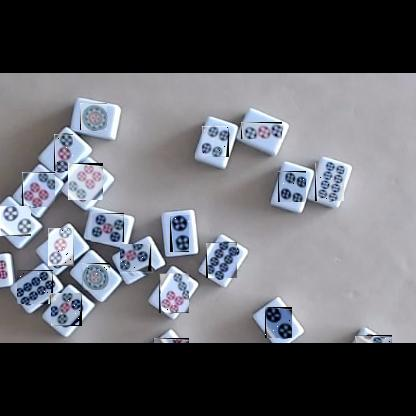1p: (82, 263, 110, 290), (80, 103, 107, 130)
2p: (0, 206, 31, 236), (265, 307, 292, 338), (170, 215, 189, 252)
3p: (48, 228, 74, 266), (54, 134, 73, 171), (241, 122, 282, 139)
4p: (278, 171, 306, 202), (202, 126, 229, 157)
5p: (121, 245, 156, 276), (51, 293, 82, 326), (91, 213, 124, 242)
6p: (68, 163, 103, 200), (22, 172, 55, 207)
7p: (159, 273, 189, 313), (153, 338, 189, 343)
8p: (17, 270, 53, 304), (206, 242, 237, 278), (315, 163, 344, 201)
9p: (355, 335, 392, 343)
